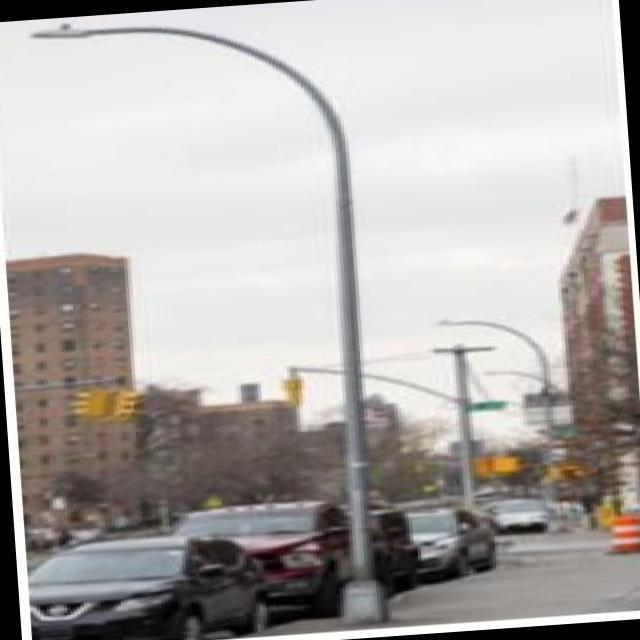off: (20, 0, 410, 172)
